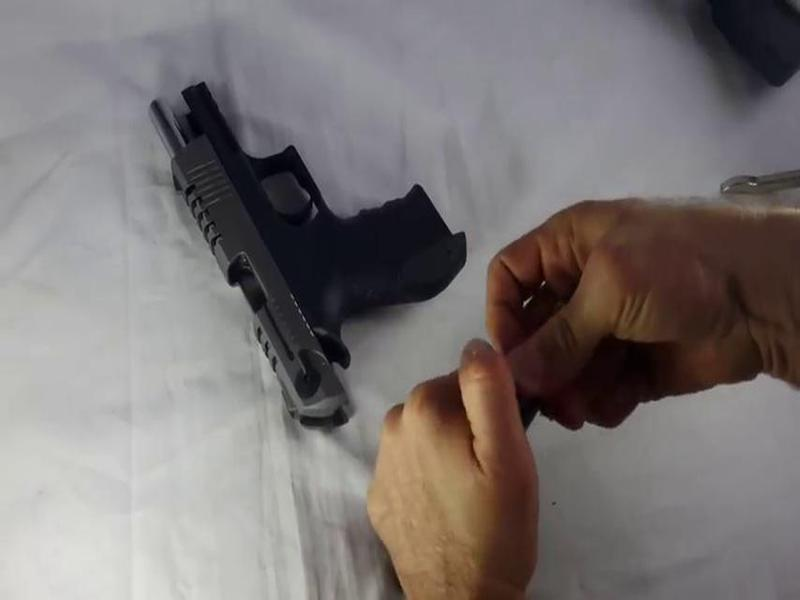Pistola: (146, 76, 474, 431)
